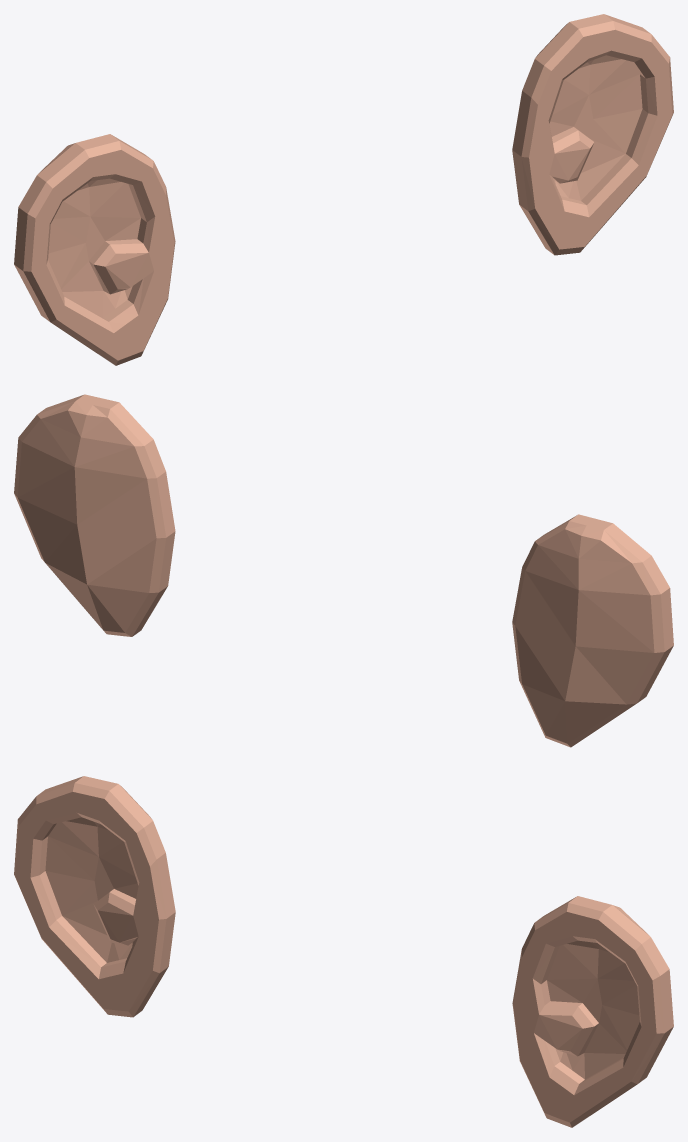
The model's file is ears.fbx.
The picture shows the model from 3 angles, top to bottom: view 1: azimuth 30°, elevation 25°; view 2: azimuth 150°, elevation 25°; view 3: azimuth 330°, elevation 25°; orthographic projection.
Visible parts, largest first — view 1: EAR; view 2: EAR; view 3: EAR.
Boxes of the visible parts, x1,y1,x2,y2 form: EAR: (14,14,673,365); EAR: (14,394,673,747); EAR: (14,776,673,1127).
Bounding box in the file's own units: 3.36 × 1.11 × 0.2339.
